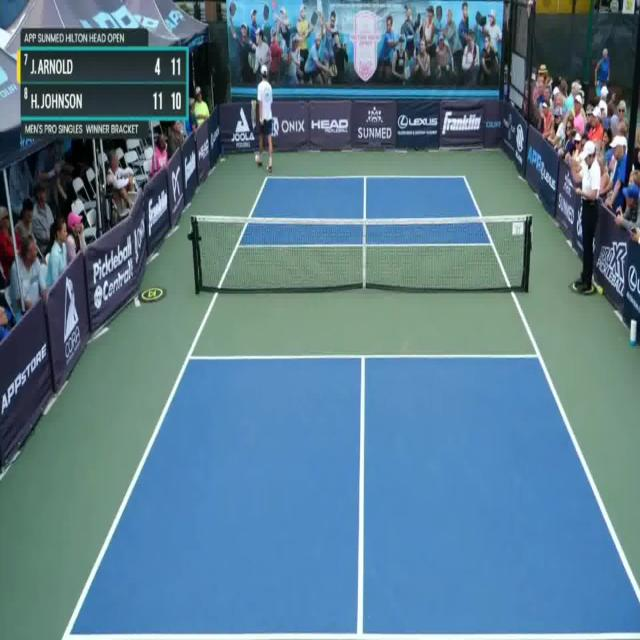Court: (67, 178, 640, 630)
